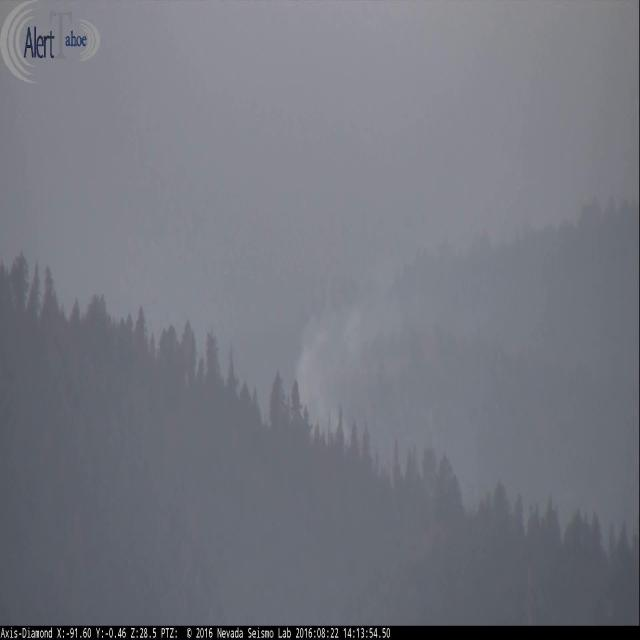smoke: (299, 237, 522, 450)
